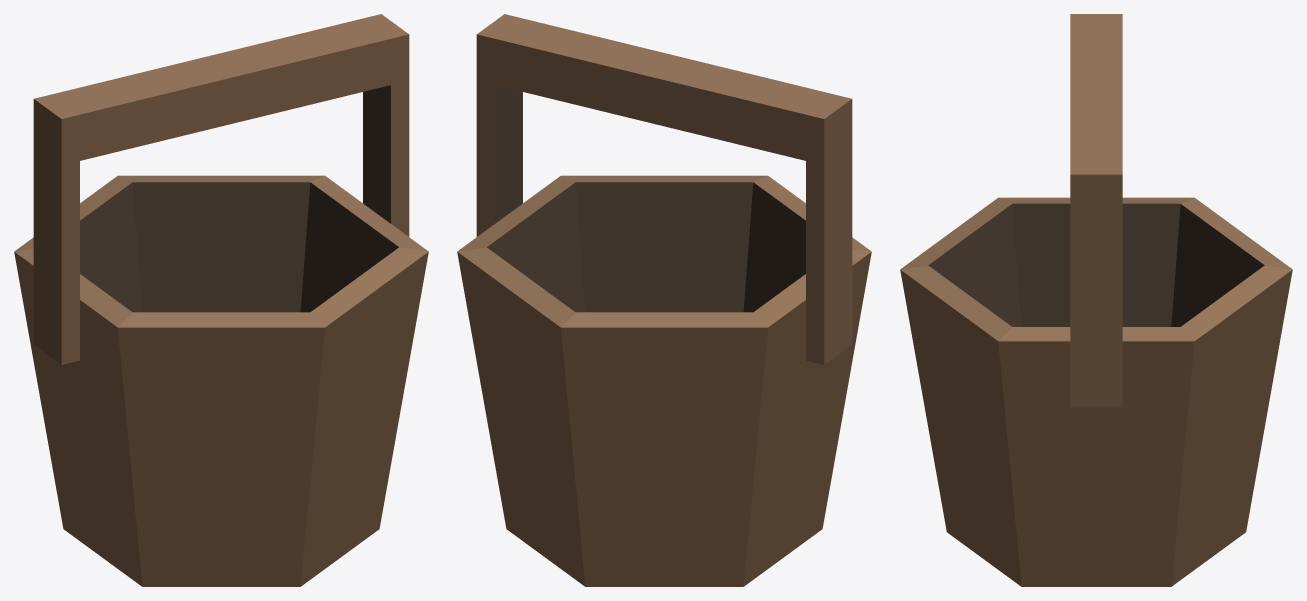
The model's file is TB_D_Prop_HBucket_A.FBX.
3 renders of one model, left to right at view 1: azimuth 30°, elevation 25°; view 2: azimuth 150°, elevation 25°; view 3: azimuth 270°, elevation 25°, orthographic. The views are drawn at different scales.
Parts seen in each view (by area): view 1: TB_D_Prop_HBucket_A; view 2: TB_D_Prop_HBucket_A; view 3: TB_D_Prop_HBucket_A.
Part boxes in pixels (x1,y1,x2,y2): TB_D_Prop_HBucket_A: (14,14,428,586); TB_D_Prop_HBucket_A: (457,14,871,586); TB_D_Prop_HBucket_A: (900,14,1292,586).
Size of the model in its own units: 0.5879 by 0.7477 by 0.6076.
